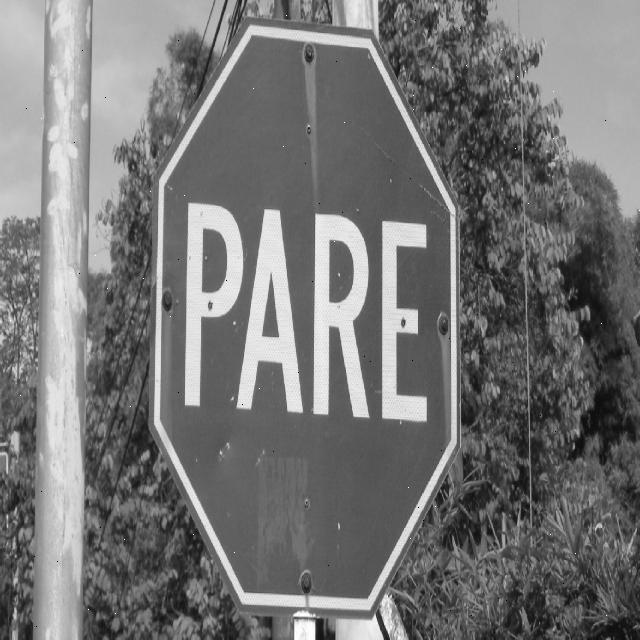Stop-sign: (141, 0, 469, 625)
